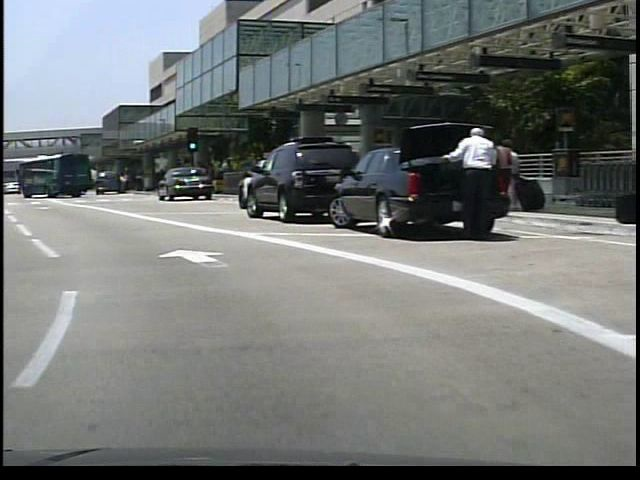person: (435, 129, 490, 238), (493, 133, 516, 217)
